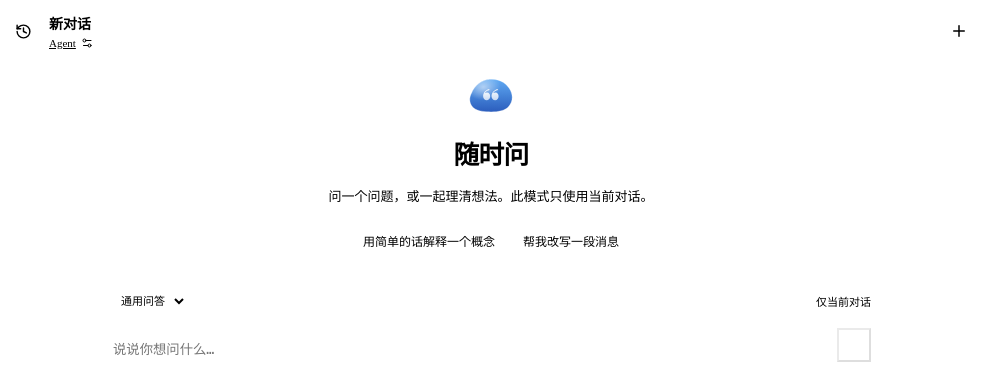
AgentConsole › creates a general question session without meeting references and pins its scope
Expected: the dropdown named "问答范围" shows "通用问答", [111,290,187,312]
Type "解释一下光合作用" into the text box at (470, 350), box [111,338,829,362]
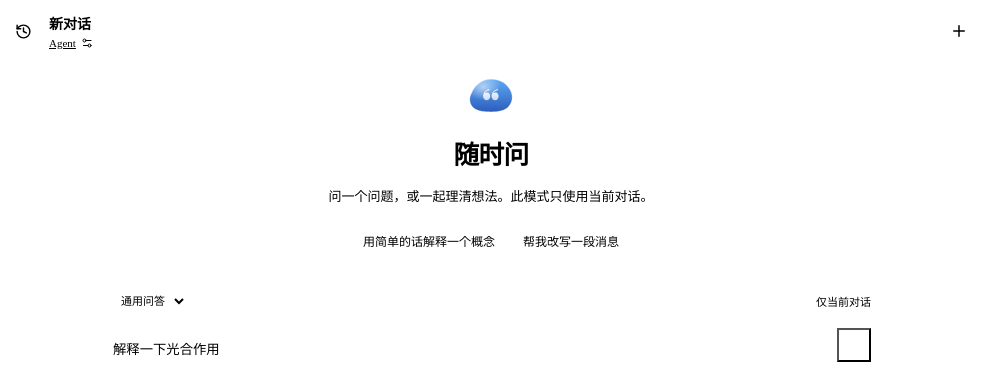
Click the button named "发送" at (854, 345), box [837,328,871,362]
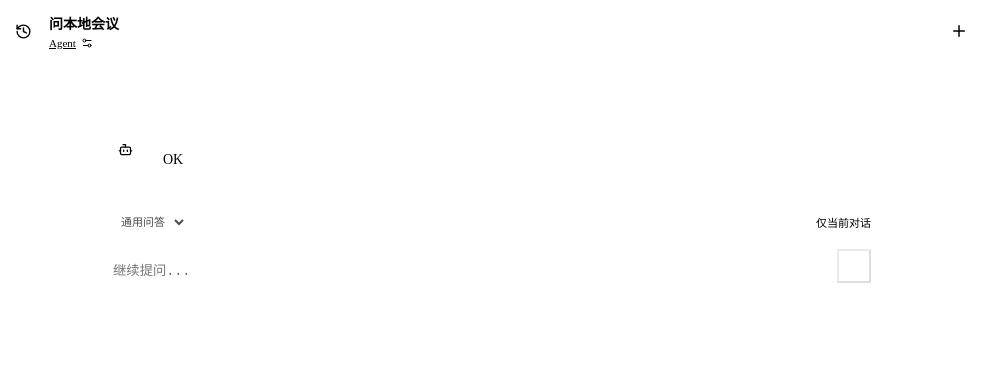
Now the text "OK" is shown, box [163,148,183,173]
Now the dropdown named "问答范围" is disabled, box [111,211,187,233]
